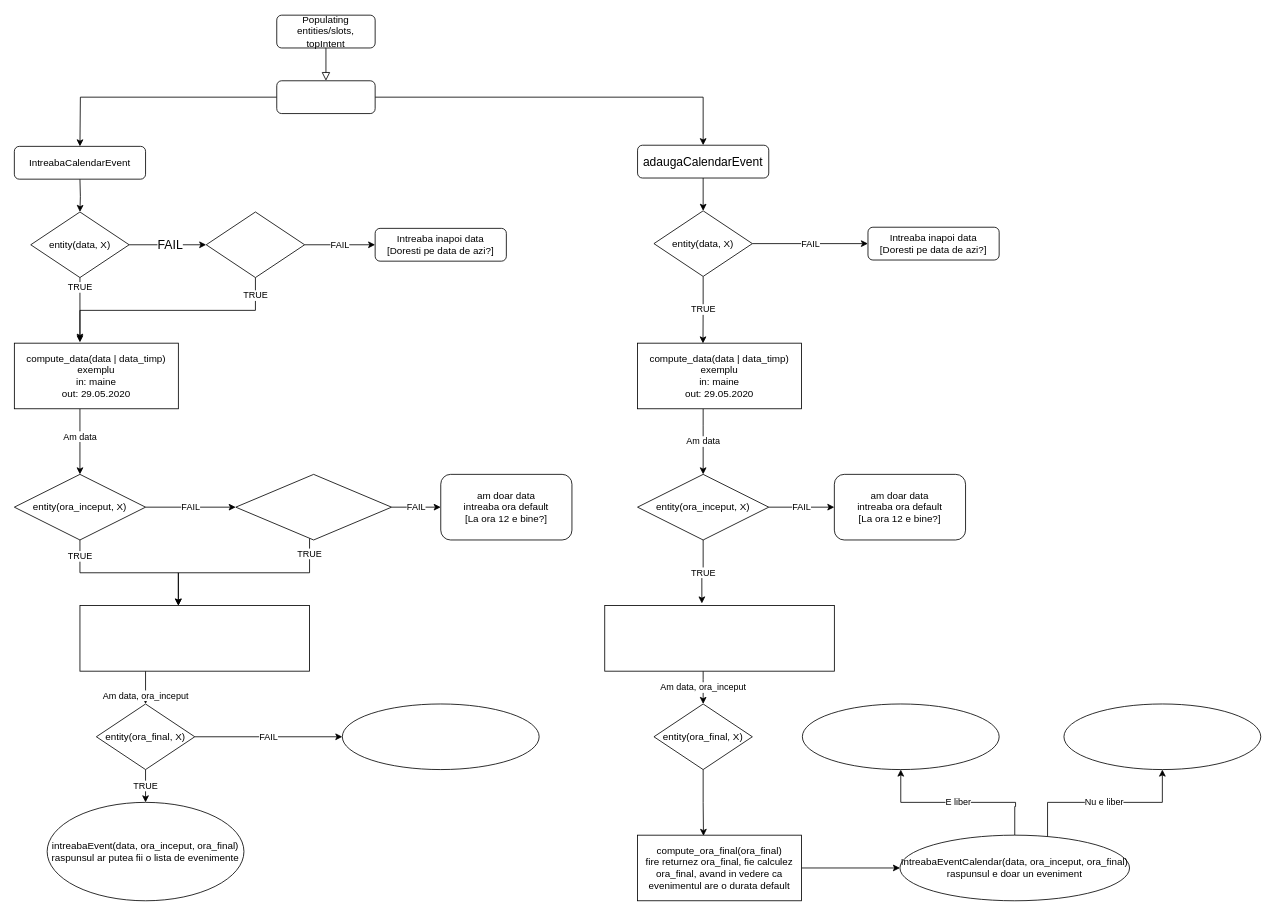
The diagram is 1275 pixels wide and 915 high, and some of its shapes have lost their labels. Each missing label, with the centre of its shape:
"AdaugaEventCalendar(data, ora_inceput, ora_final)" goes at (x=900, y=736).
"analysing topIntent" goes at (x=325, y=97).
"compute_ora(ora_inceput | ora_inceput_relativ) ex: in: peste 2 ore out: 14:32" goes at (x=194, y=638).
"compute_ora(ora_inceput) ex: in: peste 2 ore out: 14:32" goes at (x=719, y=638).
"entity(data_timp, X)" goes at (x=255, y=244).
"entity(ora_inceput_relativ, X)" goes at (x=313, y=507).
"Exista deja un eveniment. Intreaba daca inlocuiesti sau suprapui." goes at (x=1162, y=736).
"IntreabaEvent(data, ora_inceput) raspunsul e doar un eveniment" goes at (x=440, y=736).
